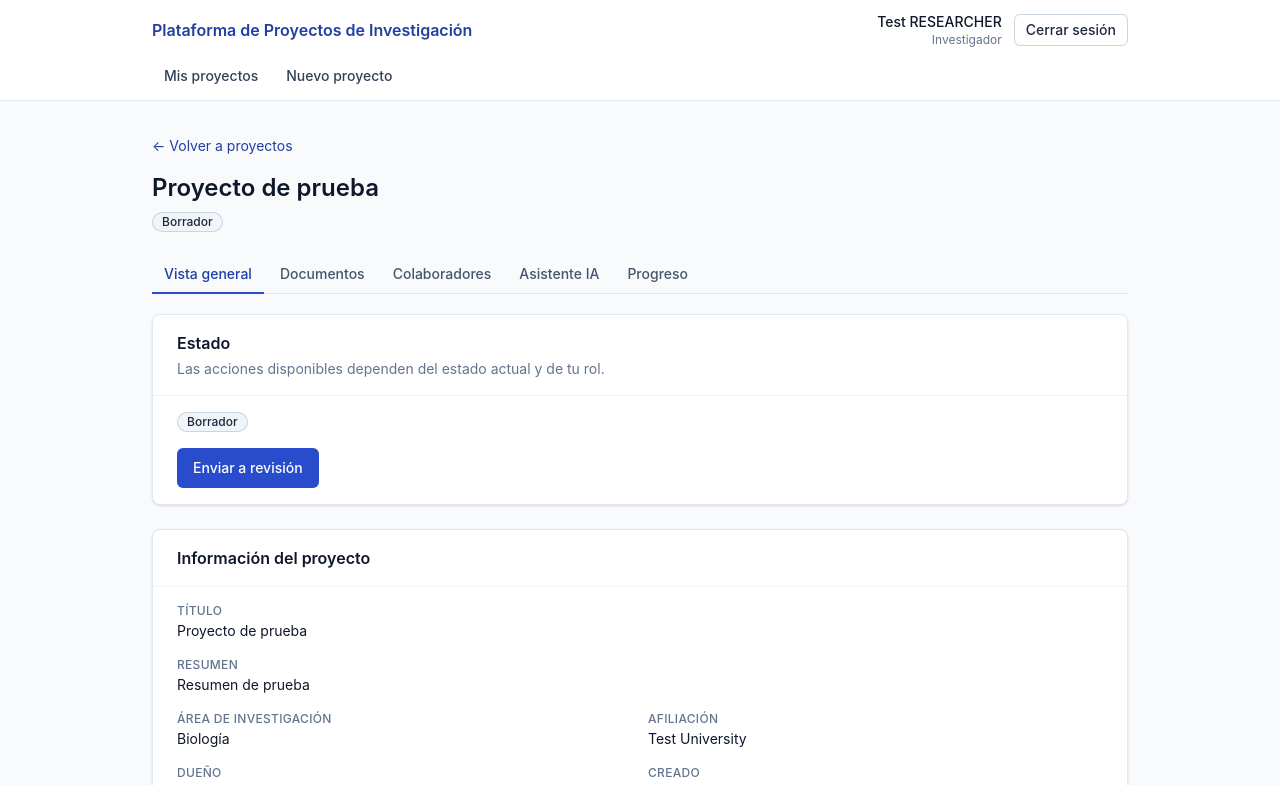
Scenario: project workspace: overview and status actions › maps 409 (invalid transition) using from/to/allowed from the response
Click the button "Enviar a revisión". click: [248, 468]
box: [177,448,319,488]
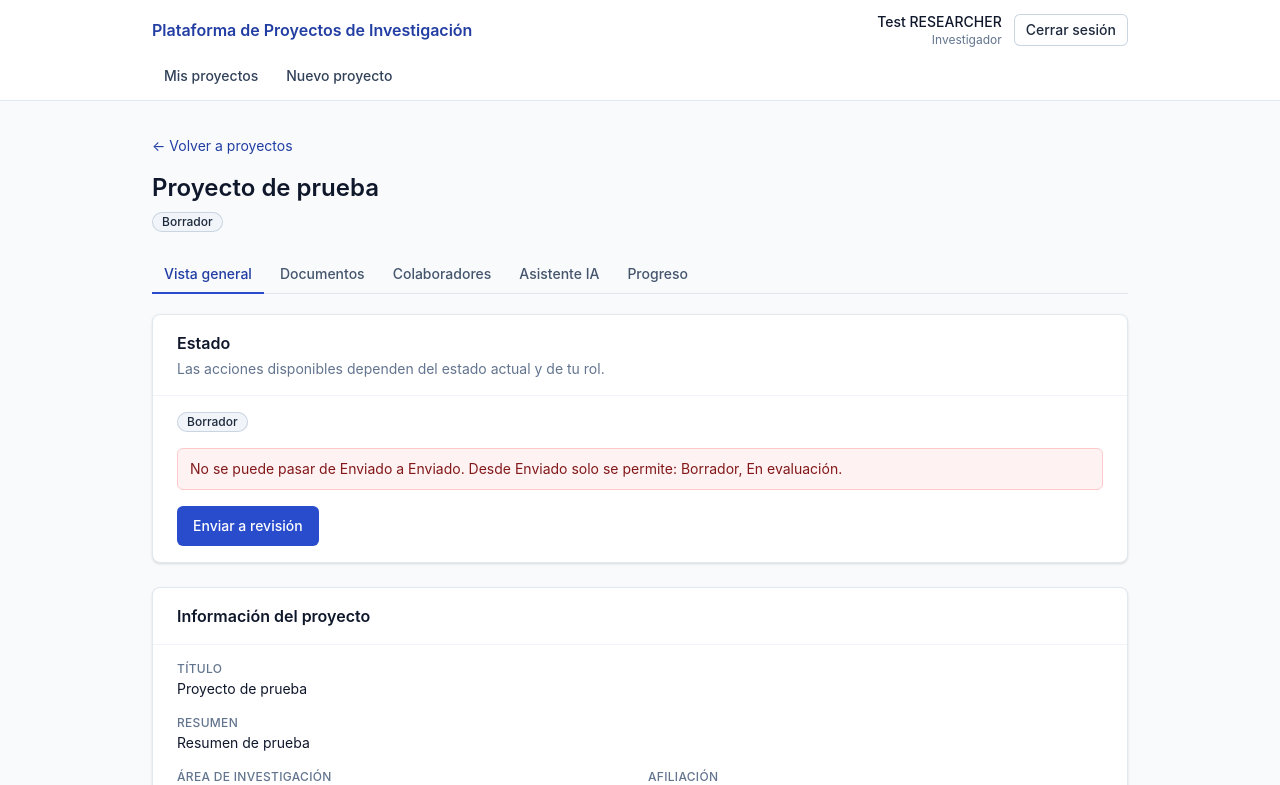
Check: the message shows "No se puede pasar de Enviado a Enviado. Desde Enviado solo se permite: Borrador, En evaluación.", box [190,460,842,477]
